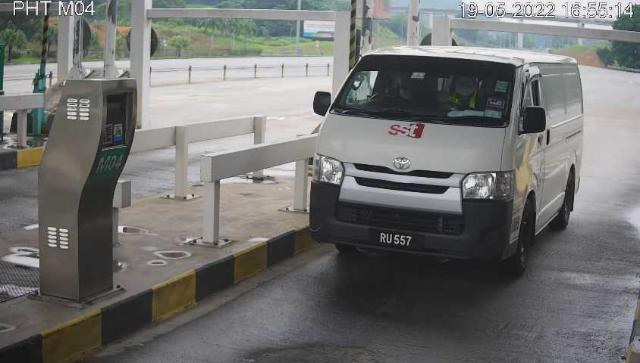License_Plate: (368, 227, 426, 255)
van: (310, 47, 585, 277)
